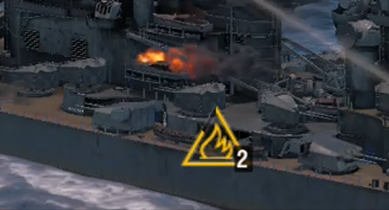2fire: (180, 132, 253, 173)
